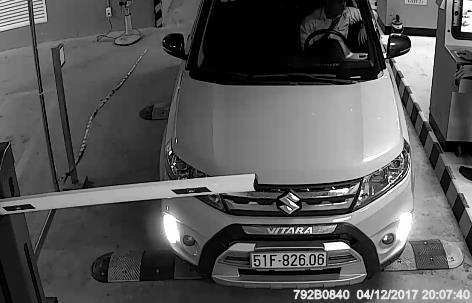License-plate: (245, 240, 337, 277)
